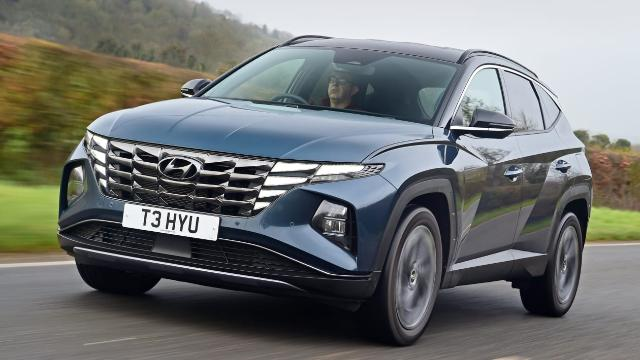hyundai: (58, 35, 594, 347)
